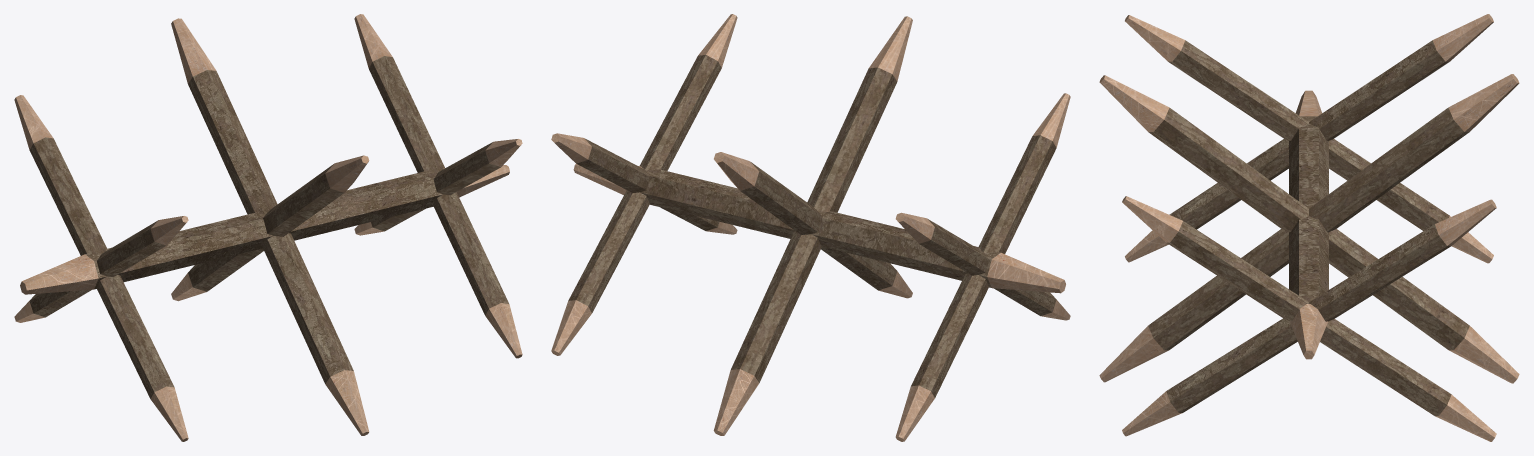
The model's file is WoodenBarricades.fbx.
The picture shows the model from 3 angles, left to right: view 1: azimuth 30°, elevation 25°; view 2: azimuth 150°, elevation 25°; view 3: azimuth 270°, elevation 25°; orthographic projection. The views are drawn at different scales.
Visible parts, largest first — view 1: Cylinder.001; view 2: Cylinder.001; view 3: Cylinder.001.
Boxes of the visible parts, x1,y1,x2,y2 form: Cylinder.001: (14, 14, 522, 441); Cylinder.001: (551, 14, 1070, 441); Cylinder.001: (1099, 14, 1519, 441).
Bounding box in the file's own units: 804 × 449 × 553.
Materials: 2 (2 with a texture image).
